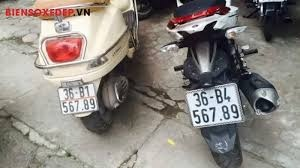Bien-so: (185, 85, 243, 129), (57, 84, 99, 116)
